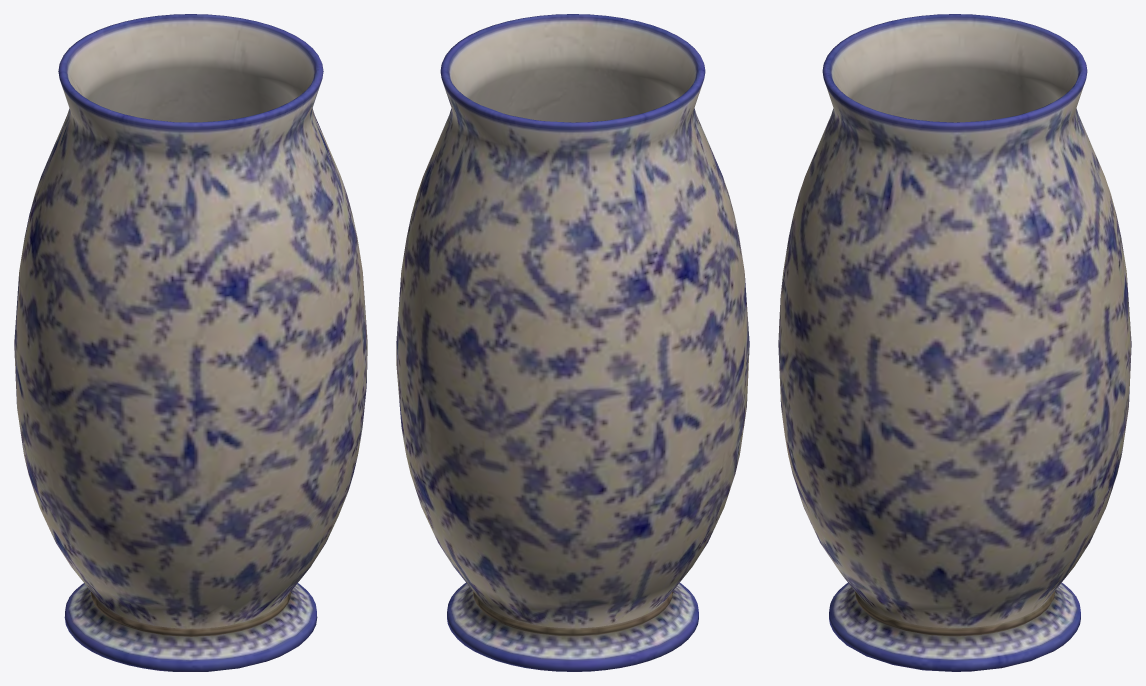
Rendered from antique-vase.glb.
The picture shows the model from 3 angles, left to right: view 1: azimuth 30°, elevation 25°; view 2: azimuth 150°, elevation 25°; view 3: azimuth 270°, elevation 25°; orthographic projection.
Parts seen in each view (by area): view 1: antique_ceramic_vase_01; view 2: antique_ceramic_vase_01; view 3: antique_ceramic_vase_01.
Part boxes in pixels (x1,y1,x2,y2): antique_ceramic_vase_01: (14,14,367,671); antique_ceramic_vase_01: (396,14,749,671); antique_ceramic_vase_01: (778,14,1131,671).
Size of the model in its own units: 0.255 by 0.4396 by 0.255.
Materials: 1 (1 with a texture image).
